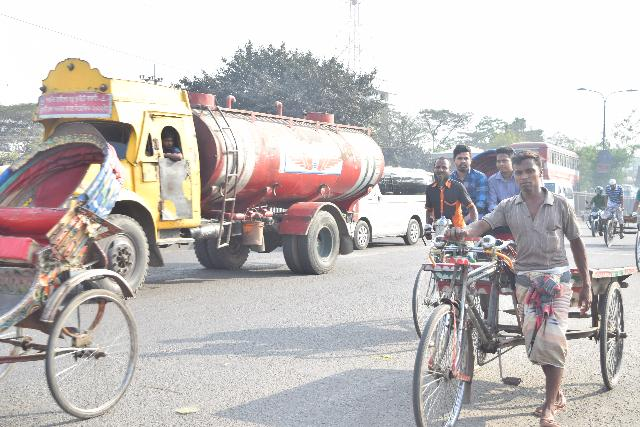bus: (517, 140, 587, 192)
motorcycle: (580, 193, 608, 238)
truck: (47, 39, 387, 297)
van: (353, 161, 430, 248)
